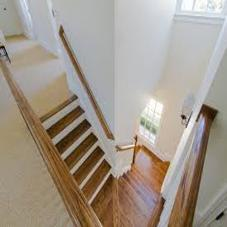Bench: (51, 99, 115, 190)
